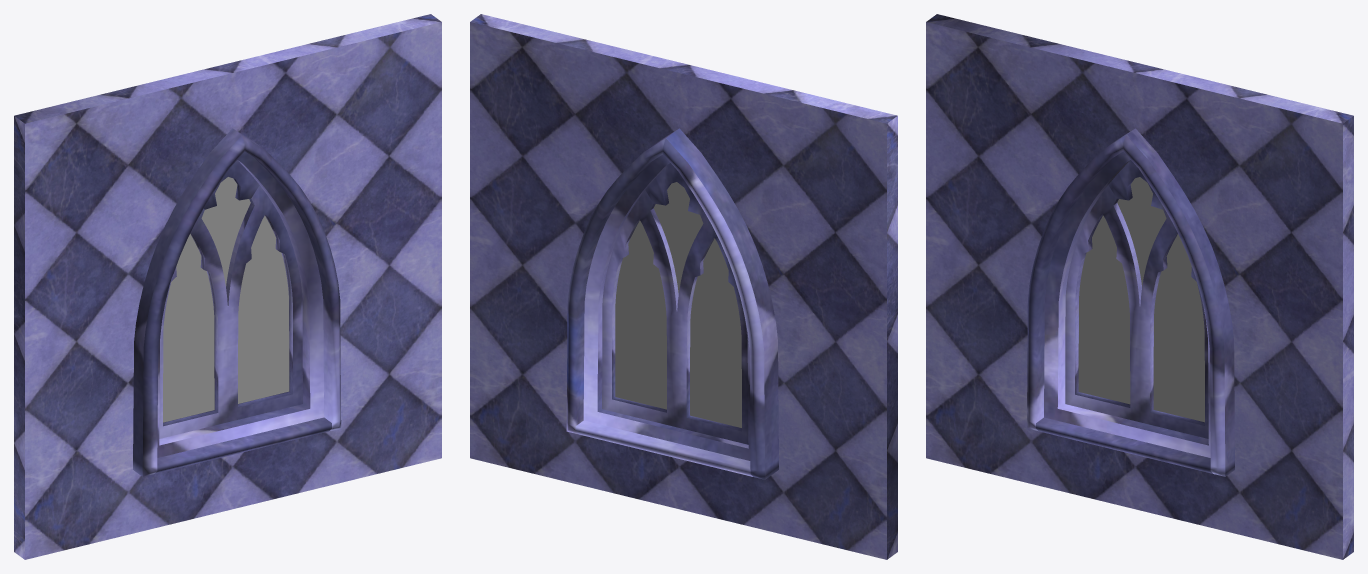
The model's file is hub_wall_window_large.fbx.
3 views of the same model, side by side, from view 1: azimuth 30°, elevation 25°; view 2: azimuth 150°, elevation 25°; view 3: azimuth 330°, elevation 25° (orthographic).
Parts seen in each view (by area): view 1: wall_window_large_, window_frame, window_glass; view 2: wall_window_large_, window_frame, window_glass; view 3: wall_window_large_, window_frame, window_glass.
Part boxes in pixels (x1=…): wall_window_large_: x1=14, y1=14, x2=441, y2=559; window_frame: x1=133, y1=128, x2=341, y2=476; window_glass: x1=163, y1=177, x2=289, y2=422; wall_window_large_: x1=470, y1=14, x2=897, y2=559; window_frame: x1=566, y1=128, x2=778, y2=479; window_glass: x1=615, y1=182, x2=741, y2=427; wall_window_large_: x1=926, y1=14, x2=1353, y2=559; window_frame: x1=1027, y1=128, x2=1234, y2=476; window_glass: x1=1078, y1=177, x2=1204, y2=422.
Bounding box in the file's own units: 22.5 × 22.5 × 3.51.
